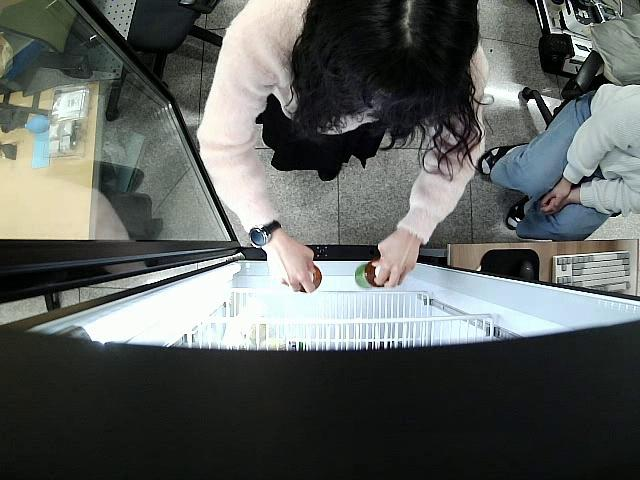00_hand: (269, 240, 319, 295), (371, 235, 417, 289)
19_17cha: (353, 260, 389, 289)
